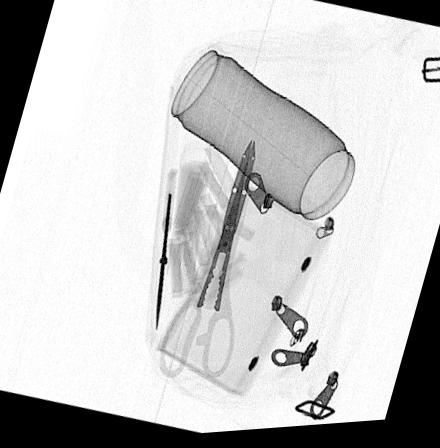Scissors: (159, 141, 257, 383), (156, 170, 177, 333)
